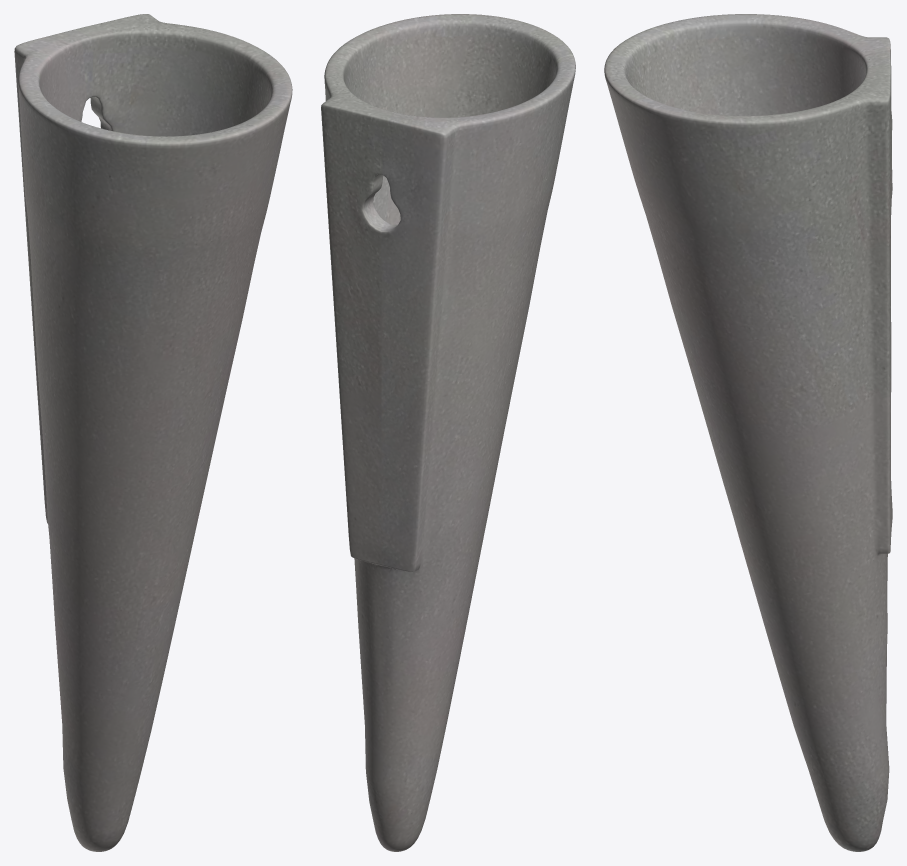
File: planter_B075HX7JHS.glb
3 renders of one model, left to right at view 1: azimuth 30°, elevation 25°; view 2: azimuth 150°, elevation 25°; view 3: azimuth 270°, elevation 25°, orthographic. The views are drawn at different scales.
Visible parts, largest first — view 1: RootNode; view 2: RootNode; view 3: RootNode.
Part boxes in pixels (x1,y1,x2,y2): RootNode: (14,14,292,851); RootNode: (321,14,575,851); RootNode: (604,14,892,851).
Size of the model in its own units: 0.0573 by 0.1913 by 0.0639.
1 material, 1 textured.
